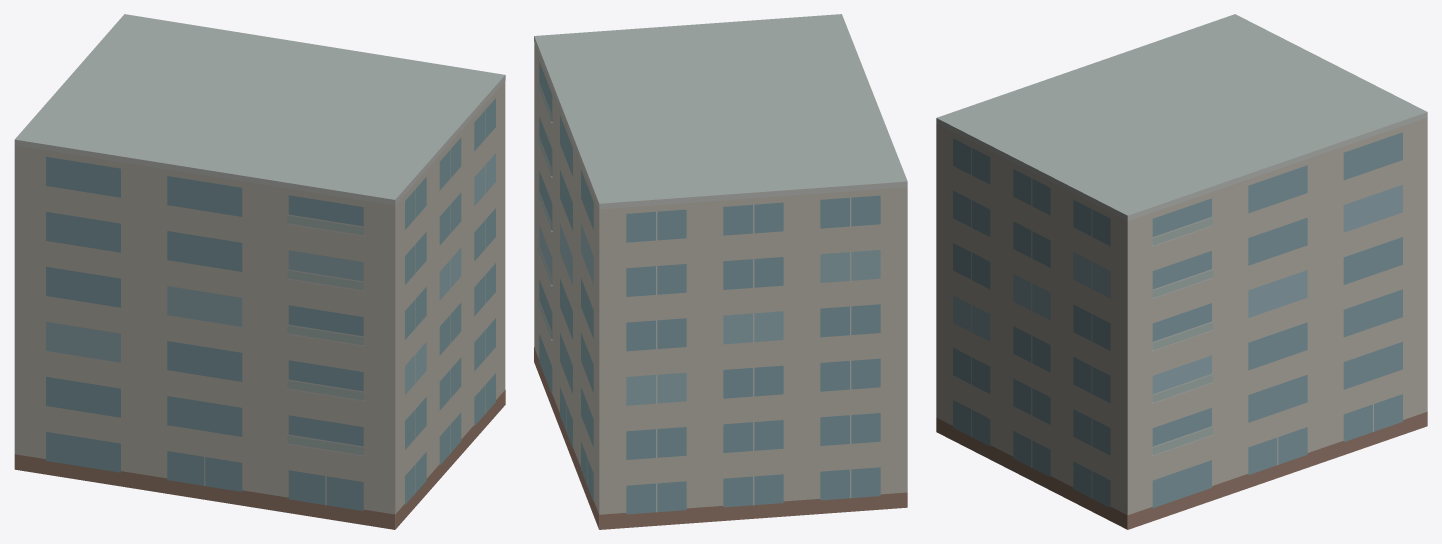
Rendered from survey-upis-32856444.glb.
The picture shows the model from 3 angles, left to right: view 1: azimuth 30°, elevation 25°; view 2: azimuth 150°, elevation 25°; view 3: azimuth 270°, elevation 25°; orthographic projection. The views are drawn at different scales.
Parts seen in each view (by area): view 1: survey-upis-32856444.tmp; view 2: survey-upis-32856444.tmp; view 3: survey-upis-32856444.tmp.
Part boxes in pixels (x1,y1,x2,y2): survey-upis-32856444.tmp: (14,14,505,529); survey-upis-32856444.tmp: (534,14,907,529); survey-upis-32856444.tmp: (936,14,1427,529).
Bounding box in the file's own units: 19.57 × 14.2 × 20.14.
